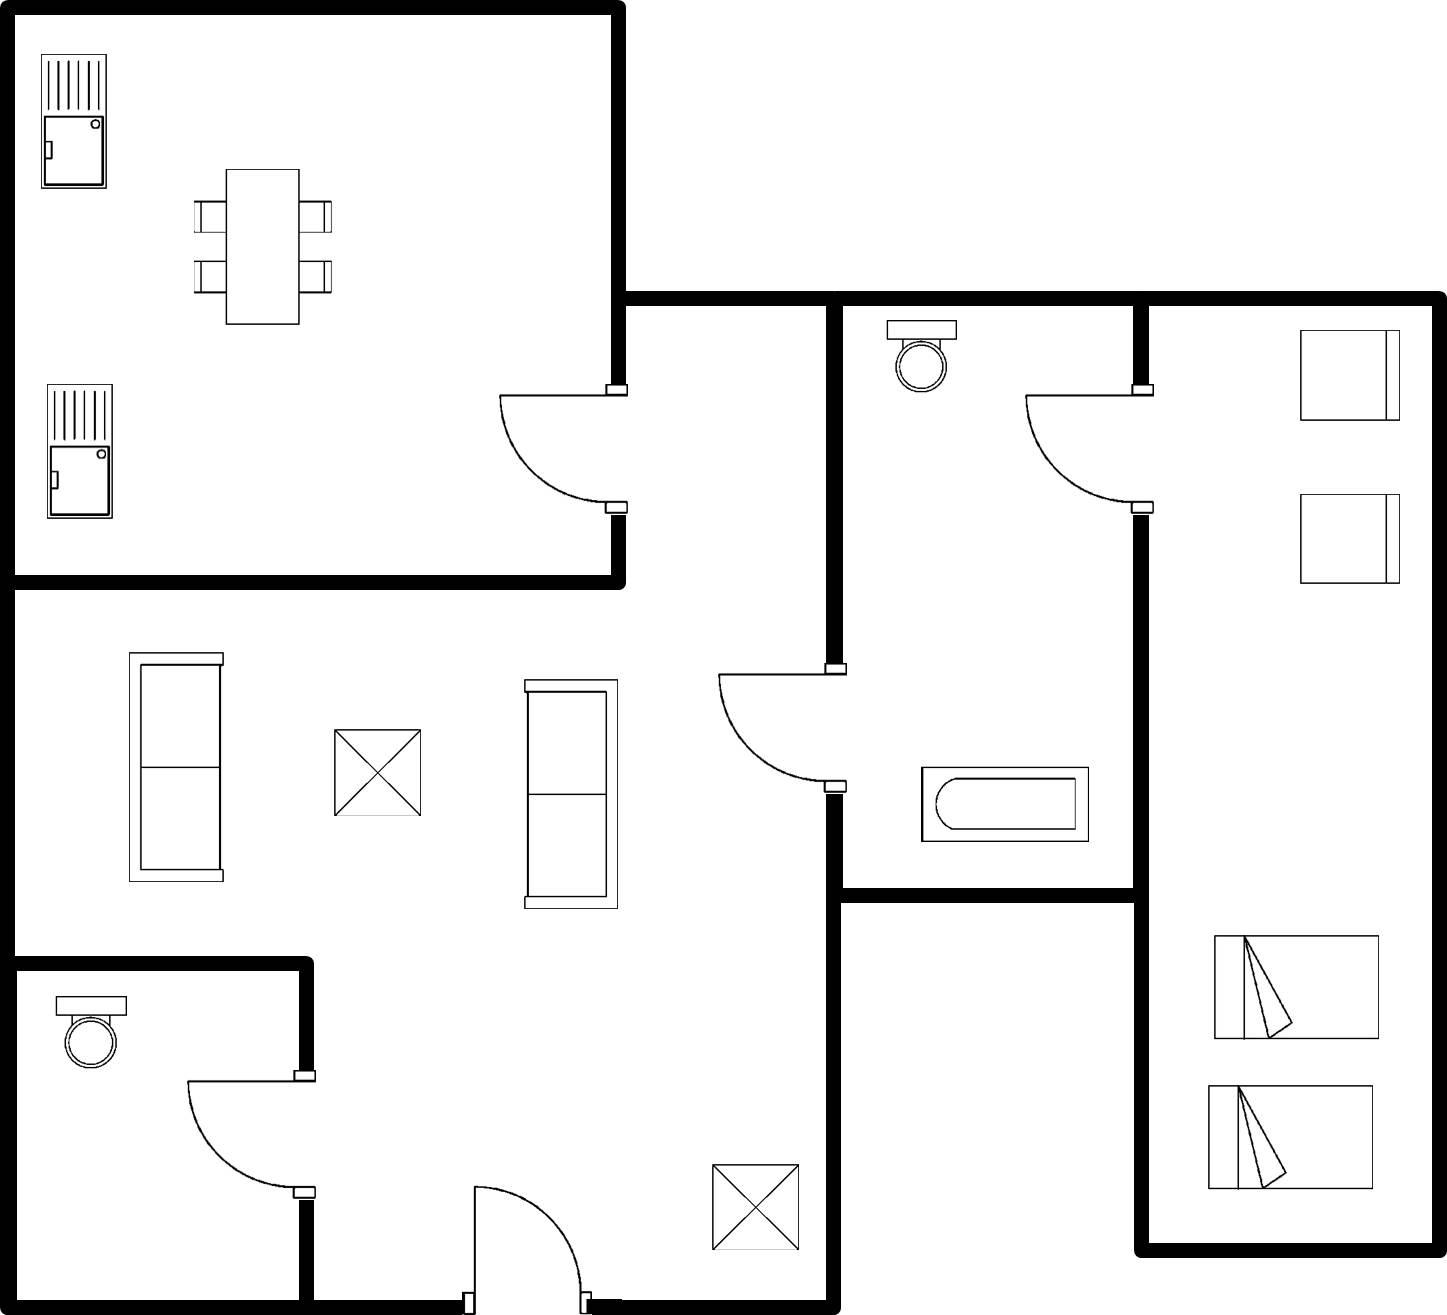bed: (1201, 920, 1393, 1050), (1192, 1075, 1385, 1200)
dining_table: (184, 159, 340, 340)
sink: (33, 43, 120, 197), (39, 379, 122, 530)
sofa: (115, 640, 238, 893), (508, 667, 628, 917)
toilet: (40, 986, 139, 1084), (873, 315, 966, 403)
tub: (902, 753, 1098, 854)
